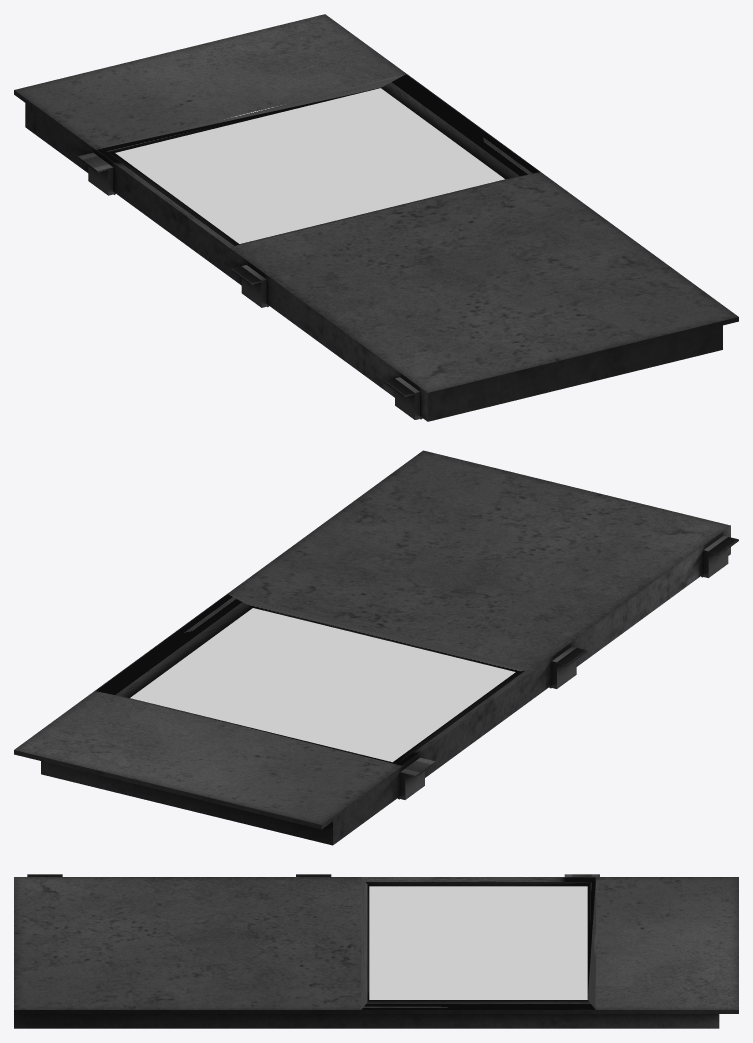
Rendered from door02.dae.
The picture shows the model from 3 angles, top to bottom: view 1: azimuth 30°, elevation 25°; view 2: azimuth 150°, elevation 25°; view 3: azimuth 270°, elevation 25°; orthographic projection. The views are drawn at different scales.
Visible parts, largest first — view 1: MyObj.002; view 2: MyObj.002; view 3: MyObj.002.
Part boxes in pixels (box(x1,y1,x2,y2)): MyObj.002: box(14, 14, 738, 421); MyObj.002: box(14, 450, 738, 845); MyObj.002: box(14, 874, 738, 1028).
Size of the model in its own units: 11.08 by 24.29 by 1.06.
